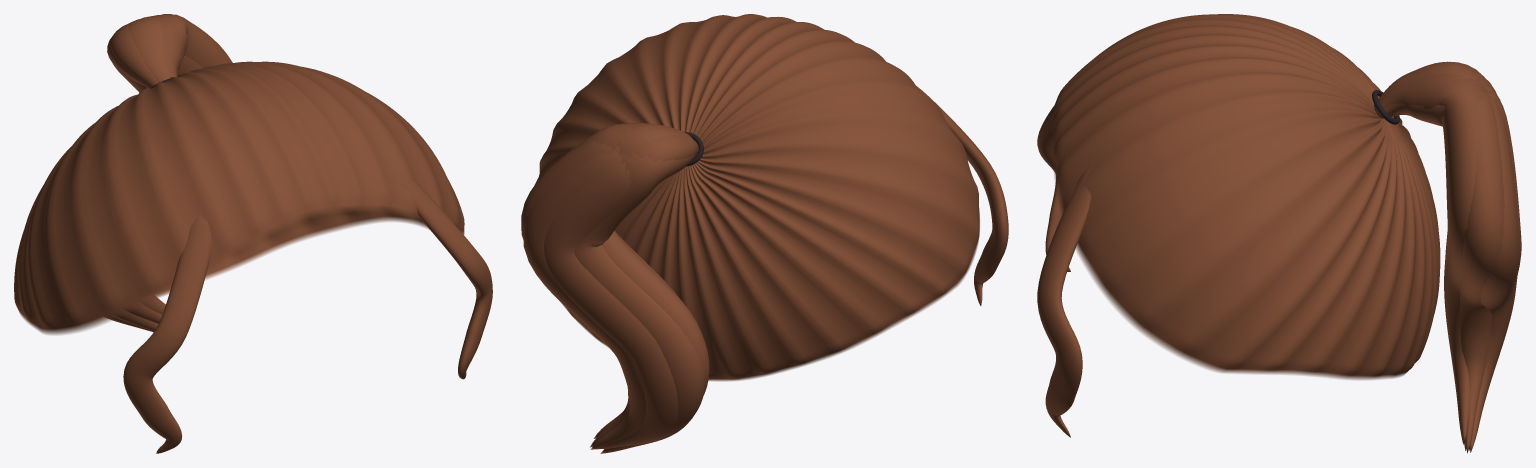
File: Feminine-ponytail-hair.glb
3 views of the same model, side by side, from view 1: azimuth 30°, elevation 25°; view 2: azimuth 150°, elevation 25°; view 3: azimuth 270°, elevation 25° (orthographic). The views are drawn at different scales.
Visible parts, largest first — view 1: Hair / softly pulled roots214, Hair / rooted framing214 -1, Hair / rooted framing214 1, Hair / selectable tail214 1, Hair / selectable tail214 2, Hair / selectable tail214 3, Hair / selectable tail214 4; view 2: Hair / softly pulled roots214, Hair / selectable tail214 5, Hair / selectable tail214 4, Hair / selectable tail214 6, Hair / selectable tail214 3, Hair / rooted framing214 -1, Hair / selectable tail214 0, Hair / selectable tail214 2, Hair / selectable tail214 1; view 3: Hair / softly pulled roots214, Hair / selectable tail214 0, Hair / selectable tail214 1, Hair / rooted framing214 1, Hair / selectable tail214 6, Hair / selectable tail214 2, Hair / rooted framing214 -1, Hair / selectable tail214 5.
Boxes of the visible parts, x1,y1,x2,y2 form: Hair / softly pulled roots214: (14,61,464,334); Hair / rooted framing214 -1: (123,215,211,453); Hair / rooted framing214 1: (393,168,492,379); Hair / selectable tail214 1: (139,14,232,314); Hair / selectable tail214 2: (123,16,202,323); Hair / selectable tail214 3: (110,23,158,331); Hair / selectable tail214 4: (105,37,153,332); Hair / softly pulled roots214: (535,14,979,381); Hair / selectable tail214 5: (544,155,678,449); Hair / selectable tail214 4: (574,152,705,453); Hair / selectable tail214 6: (523,151,645,449); Hair / selectable tail214 3: (602,135,709,394); Hair / rooted framing214 -1: (915,85,1008,305); Hair / selectable tail214 0: (521,140,629,447); Hair / selectable tail214 2: (617,123,693,295); Hair / selectable tail214 1: (558,123,644,438); Hair / softly pulled roots214: (1052,14,1440,379); Hair / selectable tail214 0: (1377,87,1504,453); Hair / selectable tail214 1: (1374,73,1485,443); Hair / rooted framing214 1: (1037,164,1092,437); Hair / selectable tail214 6: (1390,90,1519,452); Hair / selectable tail214 2: (1374,61,1484,444); Hair / rooted framing214 -1: (1037,105,1070,271); Hair / selectable tail214 5: (1485,90,1521,399).
Bounding box in the file's own units: 0.9756 × 0.8068 × 0.9135.
